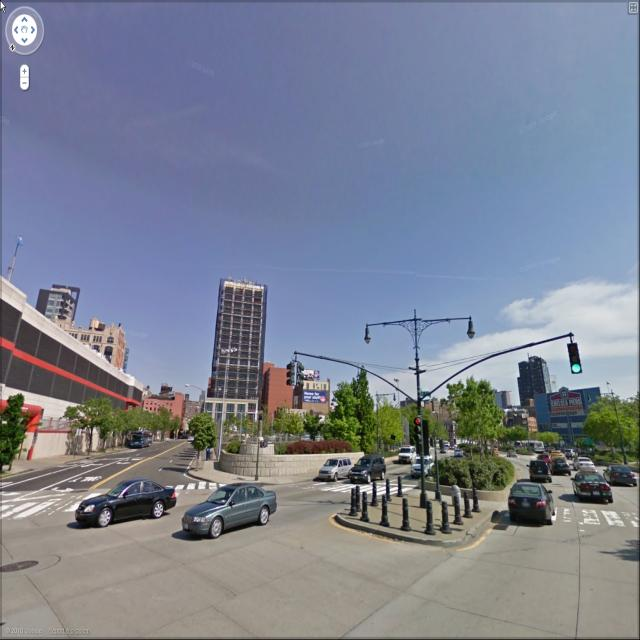b_1: (197, 266, 276, 449), (255, 356, 335, 426), (56, 316, 139, 375), (137, 382, 204, 442), (26, 270, 78, 331), (516, 344, 554, 415)
